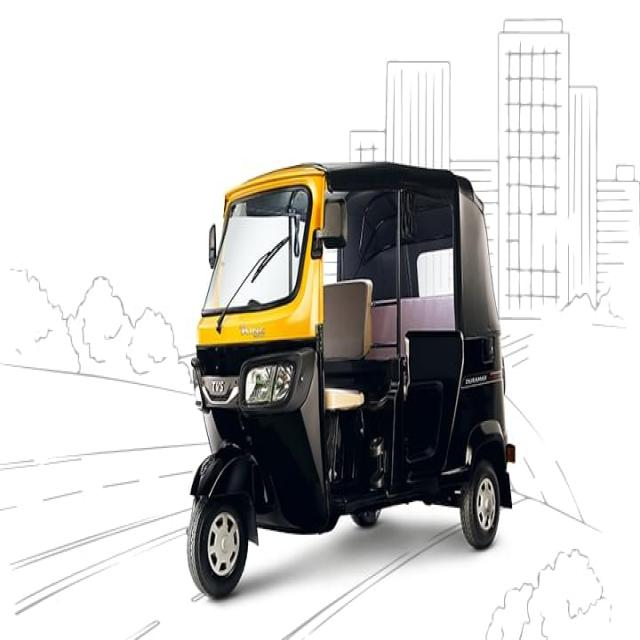autorickshaw: (186, 164, 514, 597)
